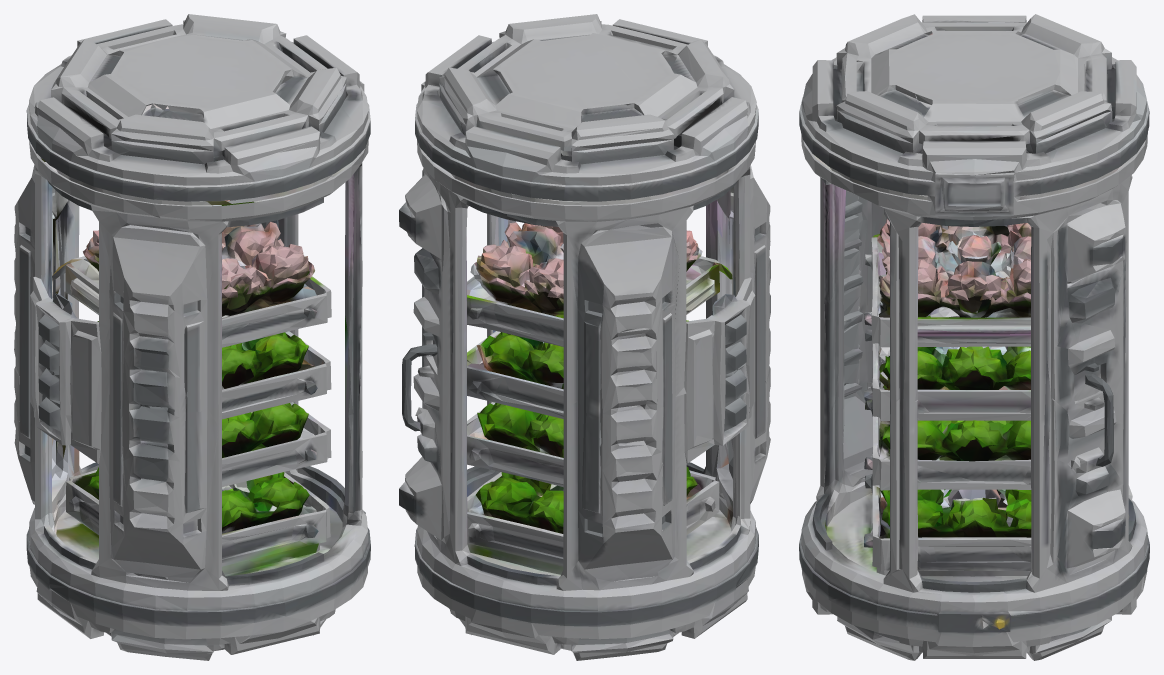
The model's file is Hydroponics - Agriculture Module.glb.
3 renders of one model, left to right at view 1: azimuth 30°, elevation 25°; view 2: azimuth 150°, elevation 25°; view 3: azimuth 270°, elevation 25°, orthographic.
Parts seen in each view (by area): view 1: tripo_node_38b631f8-fe44-442e-a87b-0cda07b9aa70; view 2: tripo_node_38b631f8-fe44-442e-a87b-0cda07b9aa70; view 3: tripo_node_38b631f8-fe44-442e-a87b-0cda07b9aa70.
Boxes of the visible parts, <box> form: tripo_node_38b631f8-fe44-442e-a87b-0cda07b9aa70: <box>14,14,370,660</box>; tripo_node_38b631f8-fe44-442e-a87b-0cda07b9aa70: <box>399,14,770,660</box>; tripo_node_38b631f8-fe44-442e-a87b-0cda07b9aa70: <box>799,14,1149,660</box>.
Size of the model in its own units: 0.6122 by 1 by 0.5882.
1 material, 1 textured.
